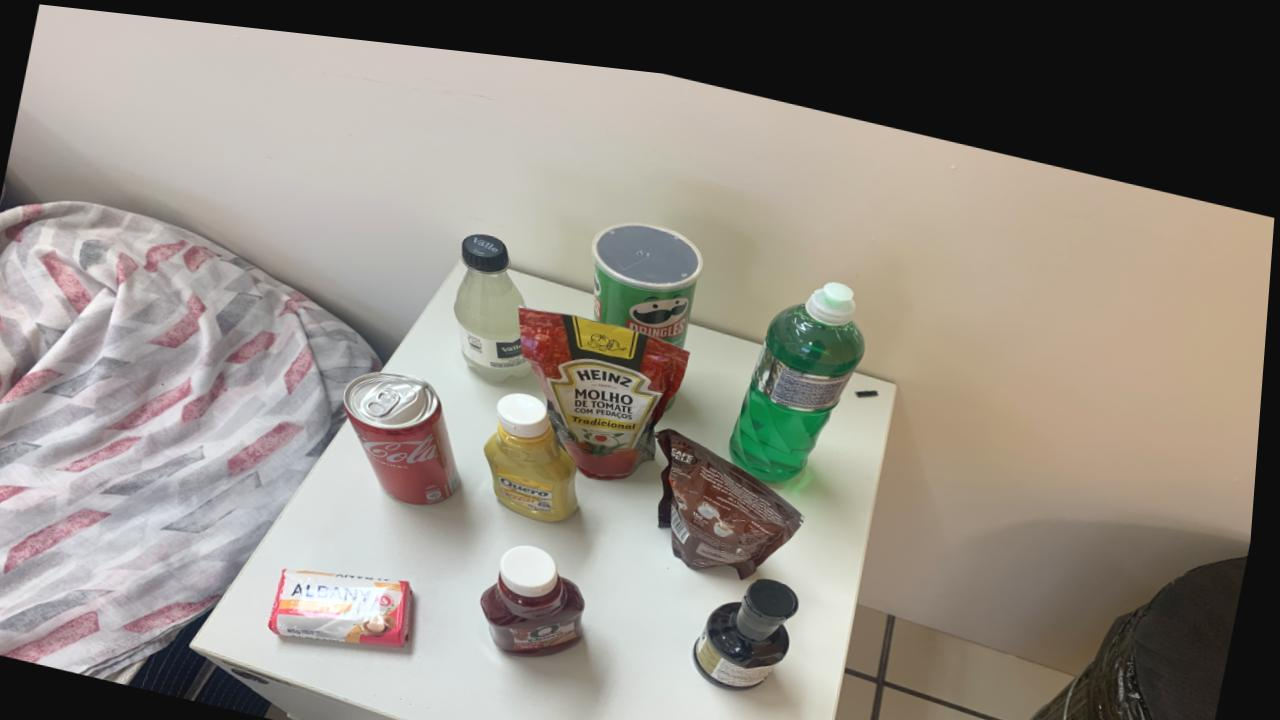Coffee-Pantry_Items: (662, 412, 811, 560)
Coke-Drinks: (348, 362, 468, 494)
Detergent-Cleanup_Items: (735, 263, 869, 464)
English_Sauce-Pantry_Items: (702, 560, 806, 672)
Ketchup-Pantry_Items: (489, 532, 593, 644)
Mustard-Pantry_Items: (489, 380, 585, 509)
Pringles-Snacks: (594, 207, 707, 331)
Soap-Cleanup_Items: (277, 561, 422, 637)
Soda-Drinks: (457, 222, 535, 370)
Tomato_Sauce-Pantry_Items: (523, 296, 694, 465)
